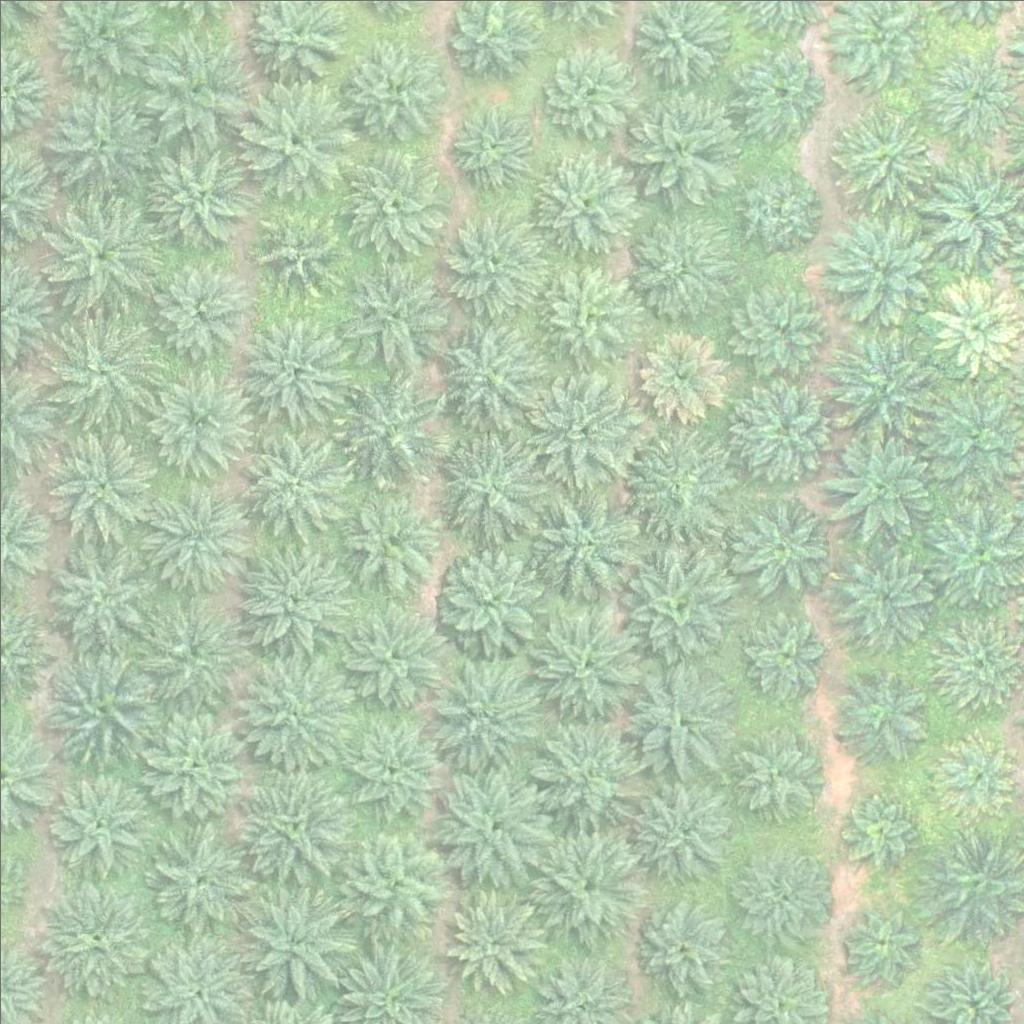Kelapa_Sawit: (823, 428, 936, 542), (340, 827, 453, 941), (235, 769, 348, 883), (235, 651, 348, 765), (136, 595, 249, 709), (135, 480, 248, 594), (826, 205, 939, 319), (236, 889, 349, 1002), (627, 888, 740, 1001), (626, 775, 739, 888), (620, 662, 733, 775), (620, 548, 733, 661), (530, 607, 643, 720), (528, 481, 641, 594), (525, 371, 638, 484), (239, 539, 352, 652), (232, 421, 345, 534), (139, 362, 252, 475), (44, 195, 157, 308), (45, 90, 158, 203), (142, 141, 255, 254), (433, 318, 546, 431), (825, 331, 938, 444), (135, 705, 247, 819), (43, 540, 155, 654), (44, 423, 156, 537), (38, 880, 150, 993), (620, 426, 732, 539), (535, 829, 647, 942), (532, 713, 644, 826), (433, 769, 545, 882), (427, 657, 539, 770), (433, 545, 545, 658), (438, 432, 550, 545), (334, 602, 446, 715), (337, 372, 449, 485), (141, 824, 253, 937), (43, 648, 155, 761), (49, 315, 161, 428), (137, 34, 249, 147), (239, 85, 351, 198), (340, 146, 452, 259), (240, 318, 352, 431), (336, 259, 448, 372), (618, 83, 730, 196), (441, 892, 541, 993), (828, 668, 928, 769), (833, 543, 933, 644), (727, 718, 827, 819), (734, 495, 834, 596), (337, 491, 437, 592), (45, 771, 145, 872), (341, 38, 441, 139), (444, 216, 544, 317), (533, 265, 633, 366), (726, 279, 826, 380), (624, 219, 724, 320), (730, 845, 830, 945), (734, 380, 834, 480), (342, 714, 442, 814), (534, 154, 634, 254), (536, 43, 636, 143), (832, 104, 932, 204), (253, 208, 341, 297), (933, 728, 1021, 816), (832, 788, 920, 876), (742, 612, 830, 700), (638, 331, 726, 419), (935, 52, 1023, 140), (934, 623, 1021, 711), (452, 105, 539, 193), (153, 266, 240, 354), (932, 286, 1019, 374), (731, 164, 818, 252), (730, 46, 817, 134), (845, 905, 920, 981)
